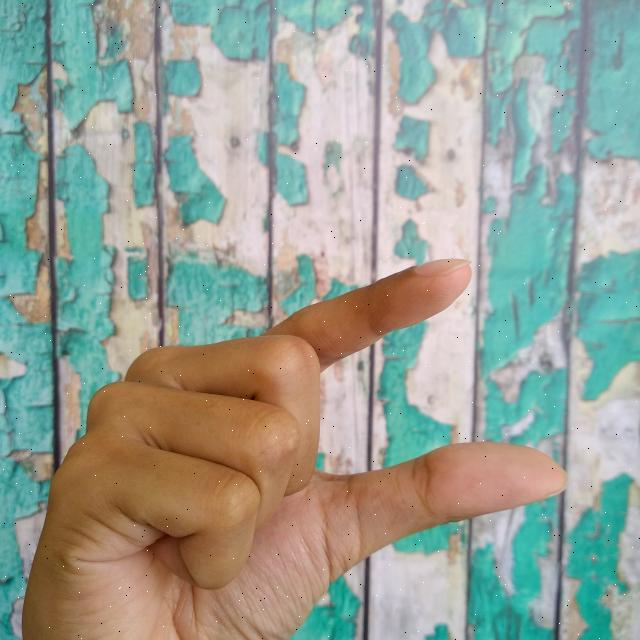G: (19, 255, 574, 640)
